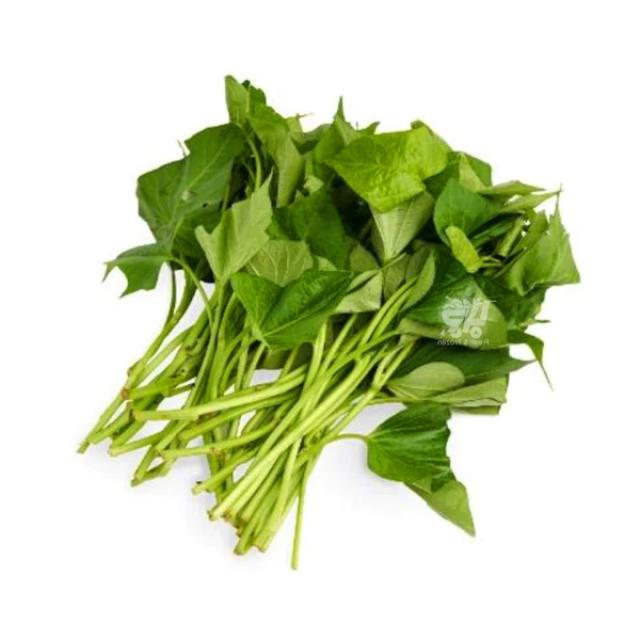organic: (74, 72, 582, 541)
